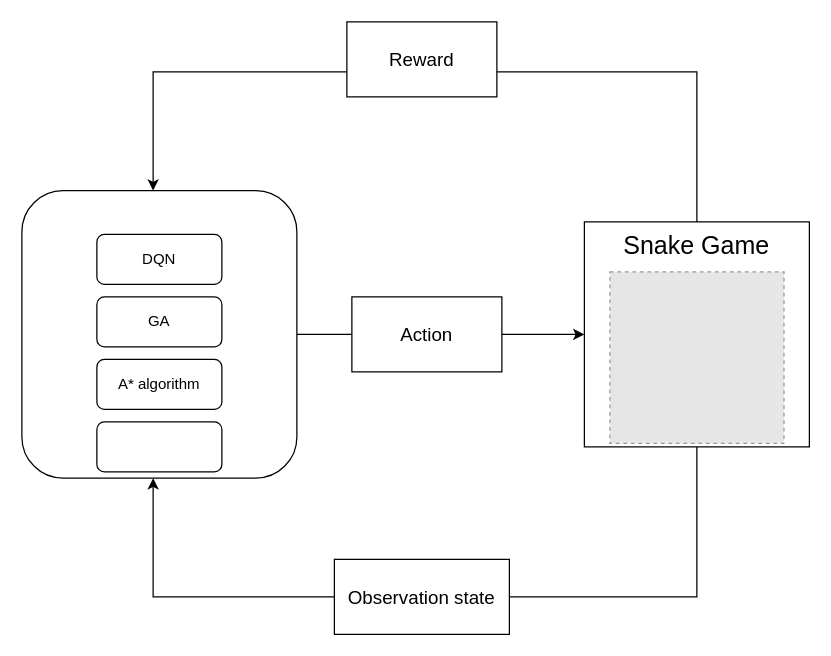
This 831x656 diagram has some shape labels left out. Grey dashed boxes stand in for pictures. The box of each missing label's shape, as (x1, y1, x2, y2) in pixels:
Agent: (21, 189, 297, 478)
ALMIGHTY MOVE: (96, 421, 222, 472)
